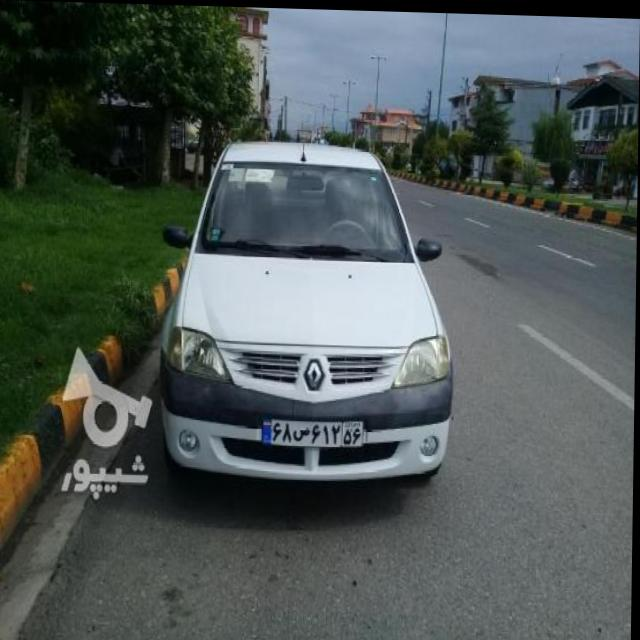licence: (262, 412, 365, 447)
